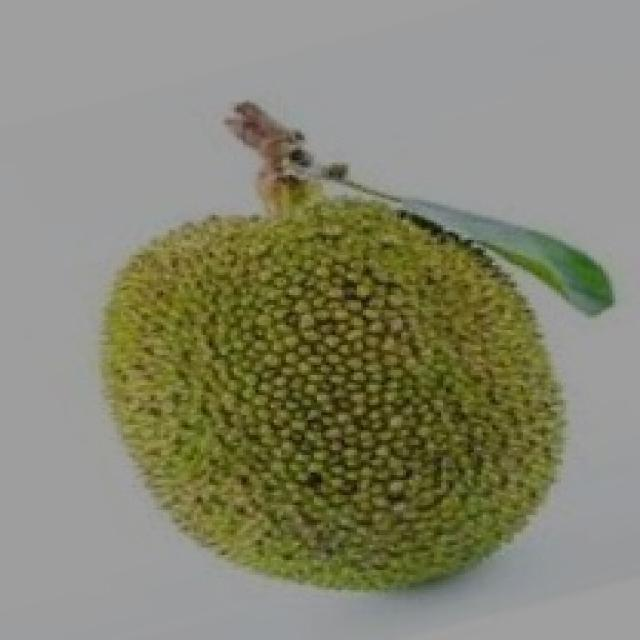Fruit: (255, 178, 603, 620), (68, 190, 422, 615)
